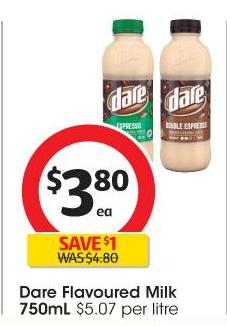description_block: (10, 278, 183, 323)
price_main: (19, 136, 163, 234)
product_image_block: (107, 14, 212, 176)
promo_text_block: (17, 231, 161, 273)
unit_price_block: (73, 301, 183, 321)
